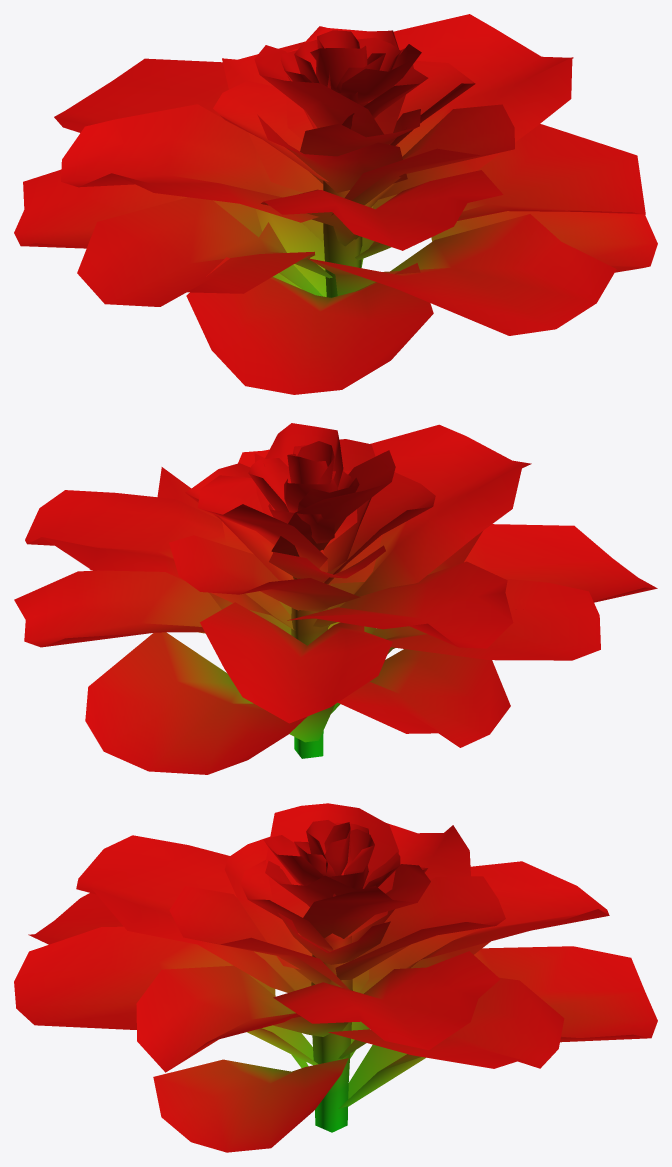
Rendered from Purple Ornamental Kale_LOD3_Var6_ugdieawja.fbx.
3 views of the same model, one above another, from view 1: azimuth 30°, elevation 25°; view 2: azimuth 150°, elevation 25°; view 3: azimuth 270°, elevation 25° (orthographic). The views are drawn at different scales.
Parts seen in each view (by area): view 1: _dc3e_Var6_LOD3; view 2: _dc3e_Var6_LOD3; view 3: _dc3e_Var6_LOD3.
Boxes of the visible parts, x1,y1,x2,y2 form: _dc3e_Var6_LOD3: (14, 14, 657, 394); _dc3e_Var6_LOD3: (14, 423, 657, 774); _dc3e_Var6_LOD3: (14, 803, 657, 1152).
Size of the model in its own units: 40.88 by 23.3 by 45.66.
